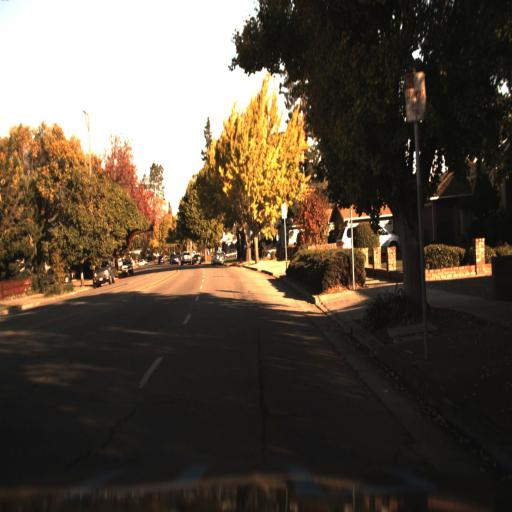car: (332, 220, 402, 257), (90, 256, 116, 294), (43, 265, 75, 285), (91, 260, 117, 284), (208, 248, 226, 269), (181, 248, 193, 267)
